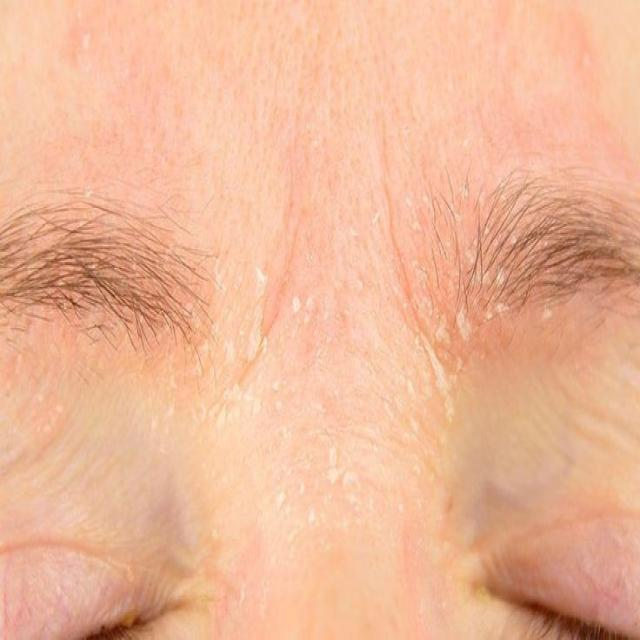Dry-Skin: (4, 204, 598, 619)
